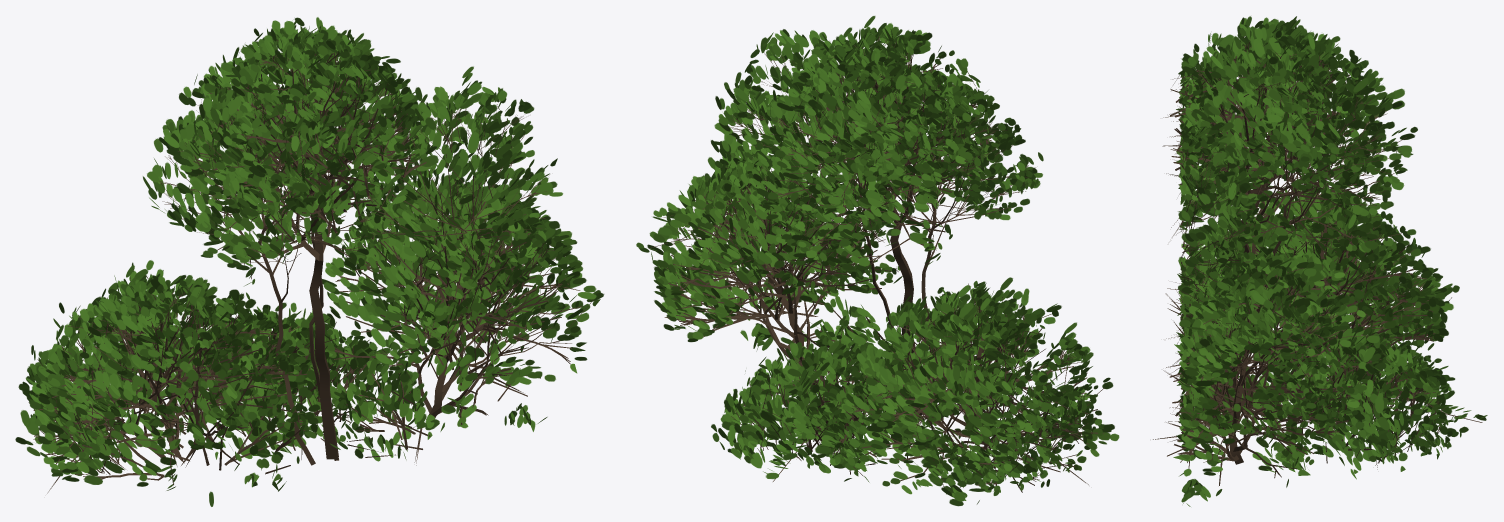
3 views of the same model, side by side, from view 1: azimuth 30°, elevation 25°; view 2: azimuth 150°, elevation 25°; view 3: azimuth 270°, elevation 25° (orthographic). The views are drawn at different scales.
Visible parts, largest first — view 1: oak 01.001_trunk_Mat.001_0.205; view 2: oak 01.001_trunk_Mat.001_0.205; view 3: oak 01.001_trunk_Mat.001_0.205.
Boxes of the visible parts, <box> form: oak 01.001_trunk_Mat.001_0.205: <box>15,17,604,506</box>; oak 01.001_trunk_Mat.001_0.205: <box>636,16,1119,506</box>; oak 01.001_trunk_Mat.001_0.205: <box>1153,16,1487,506</box>.
Size of the model in its own units: 4.28 by 3.48 by 2.58.
Materials: 2 (1 with a texture image).
